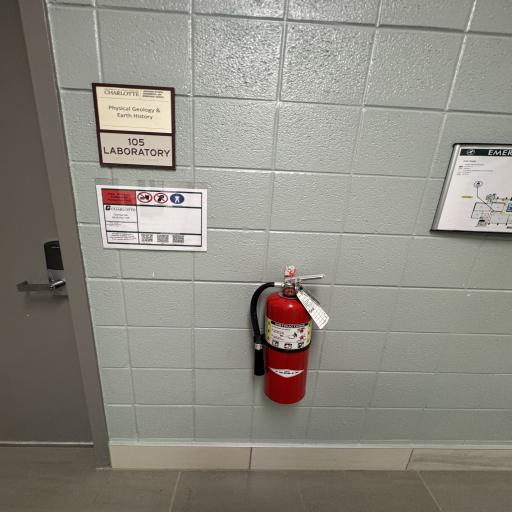door: (4, 11, 76, 445)
fire extinguisher: (246, 262, 331, 412)
floor layout map: (438, 137, 512, 234)
room 105 sign: (88, 80, 179, 172)
sign: (92, 180, 218, 256)
